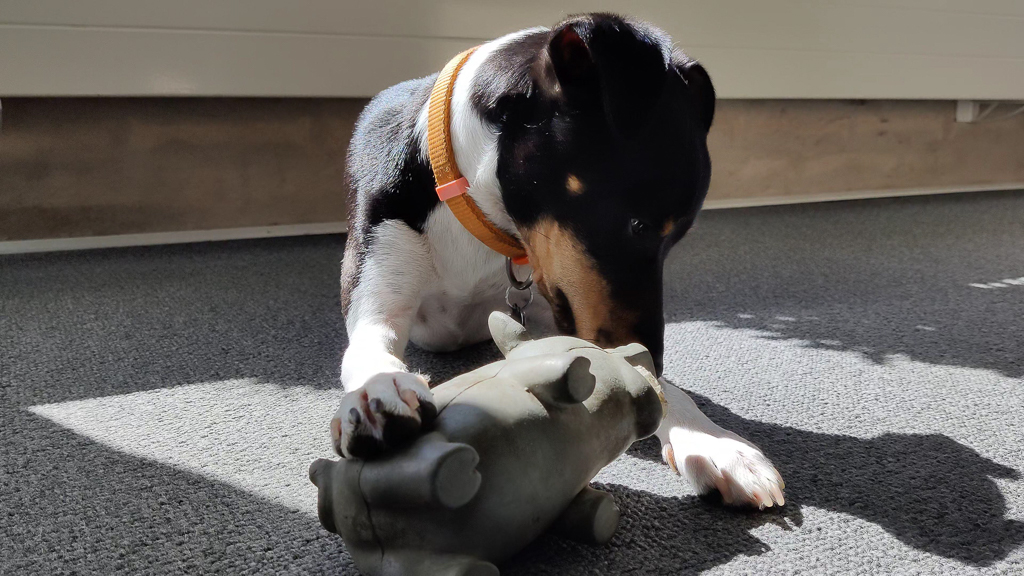Dog: (302, 7, 804, 523)
